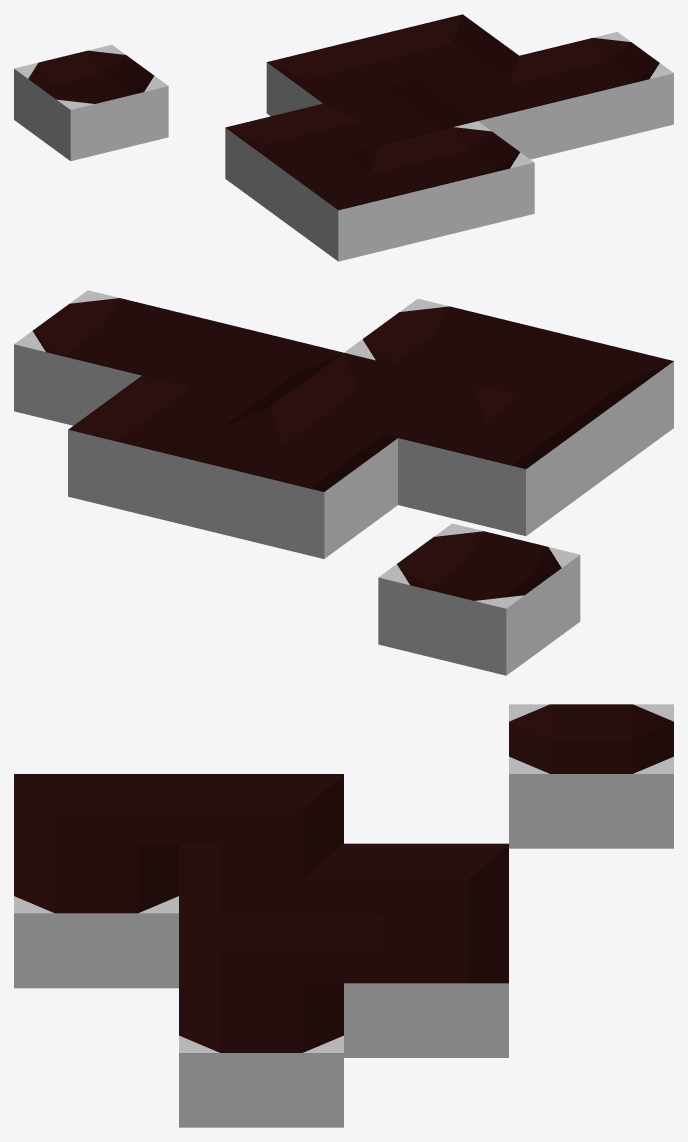
File: 51s_path.obj
The picture shows the model from 3 angles, top to bottom: view 1: azimuth 30°, elevation 25°; view 2: azimuth 150°, elevation 25°; view 3: azimuth 270°, elevation 25°; orthographic projection. The views are drawn at different scales.
Parts seen in each view (by area): view 1: hole.0.3_Cube.252, corner.1.0_corner.1238, ending.2.0_ending.501, ending.4.1_ending.502, corner.1.1_corner.1239, corner.3.1_corner.1242, corner.2.2_corner.1241, corner.3.2_corner.1243, corner.2.1_corner.1240; view 2: hole.0.3_Cube.252, corner.2.2_corner.1241, corner.1.1_corner.1239, corner.3.2_corner.1243, ending.4.1_ending.502, corner.1.0_corner.1238, corner.2.1_corner.1240, ending.2.0_ending.501, corner.3.1_corner.1242; view 3: hole.0.3_Cube.252, ending.2.0_ending.501, ending.4.1_ending.502, corner.3.2_corner.1243, corner.2.2_corner.1241, corner.3.1_corner.1242, corner.1.0_corner.1238, corner.1.1_corner.1239, corner.2.1_corner.1240.
Part boxes in pixels (x1,y1,x2,y2): hole.0.3_Cube.252: (14,44,168,161); corner.1.0_corner.1238: (282,145,436,261); ending.2.0_ending.501: (380,121,534,237); ending.4.1_ending.502: (519,32,673,148); corner.1.1_corner.1239: (225,103,379,219); corner.3.1_corner.1242: (422,56,575,159); corner.2.2_corner.1241: (266,38,420,116); corner.3.2_corner.1243: (365,14,518,86); corner.2.1_corner.1240: (323,79,477,147); hole.0.3_Cube.252: (378,523,580,675); corner.2.2_corner.1241: (196,407,397,558); corner.1.1_corner.1239: (398,384,599,535); corner.3.2_corner.1243: (68,376,269,527); ending.4.1_ending.502: (14,290,215,425); corner.1.0_corner.1238: (472,330,673,481); corner.2.1_corner.1240: (270,353,471,446); ending.2.0_ending.501: (344,298,545,386); corner.3.1_corner.1242: (142,321,343,415); hole.0.3_Cube.252: (509,704,673,848); ending.2.0_ending.501: (14,844,178,988); ending.4.1_ending.502: (179,983,343,1127); corner.3.2_corner.1243: (344,913,508,1057); corner.2.2_corner.1241: (344,843,508,932); corner.3.1_corner.1242: (179,913,343,1001); corner.1.0_corner.1238: (14,774,178,862); corner.1.1_corner.1239: (179,774,343,862); corner.2.1_corner.1240: (179,844,343,913).
Size of the model in its own units: 10 by 1 by 8.
